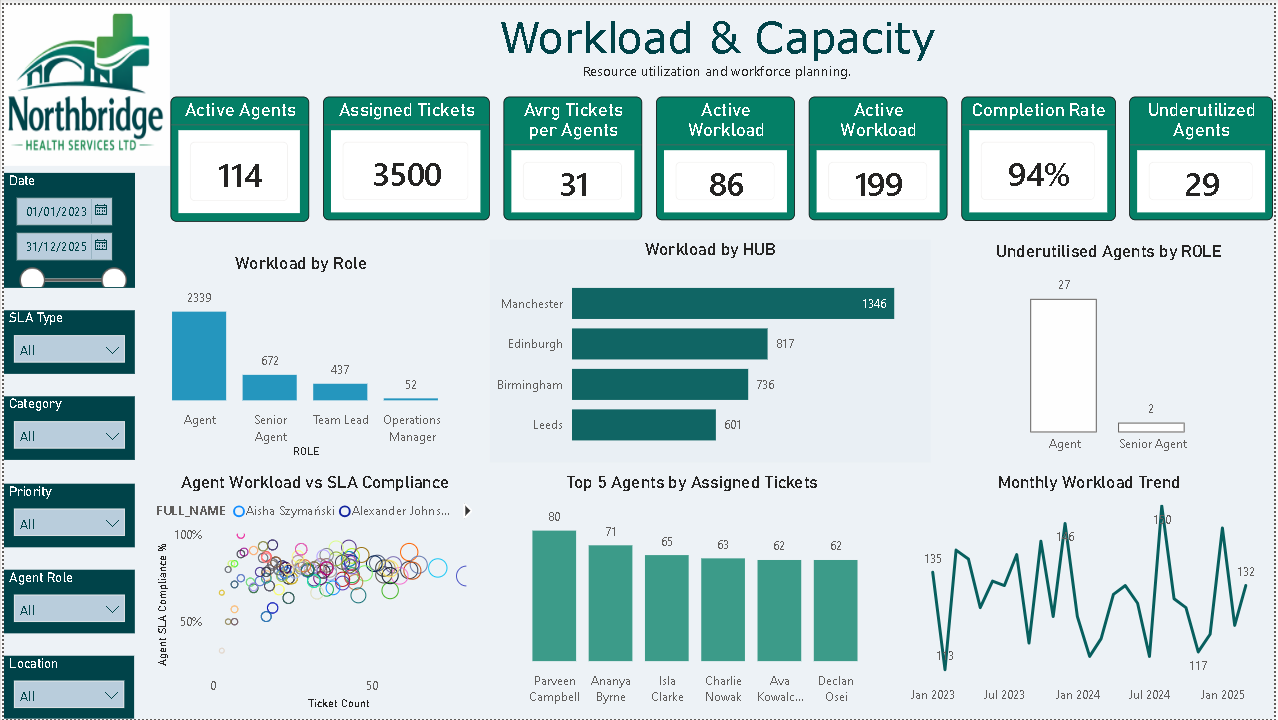

What the dashboard file says about the page in this screenshot:
{"tool":"powerbi","page":{"name":"Workload & Capacity","canvas":[1280,720],"ordinal":3},"visuals":[{"type":"cardVisual","title":"Assigned Tickets","fields":{"Data":["_Measures.Ticket Count"]},"box":[321.5,92.3,167.8,124.5],"z":0},{"type":"cardVisual","title":"Active Agents","fields":{"Data":["DIM_AGENTS.Active Agent"]},"box":[167.8,92.3,139.9,125.9],"z":1000},{"type":"cardVisual","title":"Avrg Tickets per Agents","fields":{"Data":["FCT_TICKETS.Average Tickets per Agent"]},"box":[503.2,92.3,140,125],"z":2000},{"type":"cardVisual","title":"Completion Rate","fields":{"Data":["FCT_TICKETS.Productivity Ratio"]},"box":[964.7,92.3,155.7,125.1],"z":3000},{"type":"cardVisual","title":"Active Workload","fields":{"Data":["FCT_TICKETS.Active Workload"]},"box":[810.9,92.3,140,125],"z":4000},{"type":"clusteredBarChart","title":"Workload by HUB","fields":{"Category":["DIM_AGENTS.HUB"],"Y":["CountNonNull(FCT_TICKETS.Ticket Count)"]},"box":[489.5,236.4,444.8,225.2],"z":6000},{"type":"clusteredColumnChart","fields":{"Category":["DIM_AGENTS.ROLE"],"Y":["Agent Performance.Underutilised Agents"]},"box":[949.7,238.5,328.9,224.1],"z":7000},{"type":"scatterChart","title":"Agent Workload vs SLA Compliance","fields":{"Series":["DIM_AGENTS.FULL_NAME"],"Size":["FCT_TICKETS.Resolved Tickets"],"X":["_Measures.Ticket Count"],"Y":["_Measures.Agent SLA Compliance %"]},"box":[149.7,471.3,327.4,243],"z":8000},{"type":"clusteredColumnChart","title":"Top 5 Agents by Assigned Tickets","fields":{"Category":["DIM_AGENTS.FULL_NAME"],"Y":["_Measures.Ticket Count"]},"box":[497.4,471.3,391.4,243],"z":9000},{"type":"lineChart","title":"Monthly Workload Trend","fields":{"Category":["DIM_DATE.DATE_KEY.Variation.Date Hierarchy.Year","DIM_DATE.DATE_KEY.Variation.Date Hierarchy.Quarter","DIM_DATE.DATE_KEY.Variation.Date Hierarchy.Month","DIM_DATE.DATE_KEY.Variation.Date Hierarchy.Day"],"Y":["_Measures.Ticket Count"]},"box":[909.3,471.3,369.6,243],"z":10000},{"type":"slicer","title":"Priority","fields":{"Values":["DIM_PRIORITY.PRIORITY_LABEL"]},"box":[0,482,132,64],"z":11000},{"type":"slicer","title":"Date","fields":{"Values":["DIM_DATE.DATE_KEY"]},"box":[0,169.2,132,115],"z":12000},{"type":"slicer","title":"SLA Type","fields":{"Values":["DIM_CLIENTS.CLIENT_TYPE"]},"box":[0,307.5,132,64],"z":13000},{"type":"slicer","title":"Agent Role","fields":{"Values":["FCT_TICKETS.SLA STATUS"]},"box":[0,569.2,132,64],"z":14000},{"type":"slicer","title":"Category","fields":{"Values":["FCT_TICKETS.SLA STATUS"]},"box":[0,394.7,132,64],"z":15000},{"type":"slicer","title":"Location","fields":{"Values":["DIM_CLIENTS.REGION"]},"box":[0,656.5,131.3,63.5],"z":16000},{"type":"textbox","box":[358.1,0,721.7,81.1],"z":17000},{"type":"image","box":[0,0,167,162],"z":18000},{"type":"clusteredColumnChart","title":"Workload by Role","fields":{"Category":["DIM_AGENTS.ROLE"],"Y":["_Measures.Ticket Count"]},"box":[125.7,249.9,347.3,210.4],"z":19000},{"type":"cardVisual","title":"Underutilized Agents","fields":{"Data":["_Measures.Underutilised Agents"]},"box":[1134.3,92.3,145,125],"z":20000},{"type":"cardVisual","title":"Active Workload","fields":{"Data":["_Measures.Agents with Active Workload"]},"box":[657.1,92.3,140,125],"z":20001}]}

Visuals, with their boxes in screenshot pixels (x1, y1, x2, y2), scaled from the page's 1280x720 canvas onto the 1278x720 screenshot:
"Assigned Tickets" cardVisual: BBox(321, 92, 489, 217)
"Active Agents" cardVisual: BBox(168, 92, 307, 218)
"Avrg Tickets per Agents" cardVisual: BBox(502, 92, 642, 217)
"Completion Rate" cardVisual: BBox(963, 92, 1119, 217)
"Active Workload" cardVisual: BBox(810, 92, 949, 217)
"Workload by HUB" clusteredBarChart: BBox(489, 236, 933, 462)
clusteredColumnChart - DIM_AGENTS.ROLE x Agent Performance.Underutilised Agents: BBox(948, 238, 1277, 463)
"Agent Workload vs SLA Compliance" scatterChart: BBox(149, 471, 476, 714)
"Top 5 Agents by Assigned Tickets" clusteredColumnChart: BBox(497, 471, 887, 714)
"Monthly Workload Trend" lineChart: BBox(908, 471, 1277, 714)
"Priority" slicer: BBox(0, 482, 132, 546)
"Date" slicer: BBox(0, 169, 132, 284)
"SLA Type" slicer: BBox(0, 308, 132, 372)
"Agent Role" slicer: BBox(0, 569, 132, 633)
"Category" slicer: BBox(0, 395, 132, 459)
"Location" slicer: BBox(0, 656, 131, 719)
textbox: BBox(358, 0, 1078, 81)
image: BBox(0, 0, 167, 162)
"Workload by Role" clusteredColumnChart: BBox(126, 250, 472, 460)
"Underutilized Agents" cardVisual: BBox(1133, 92, 1277, 217)
"Active Workload" cardVisual: BBox(656, 92, 796, 217)
